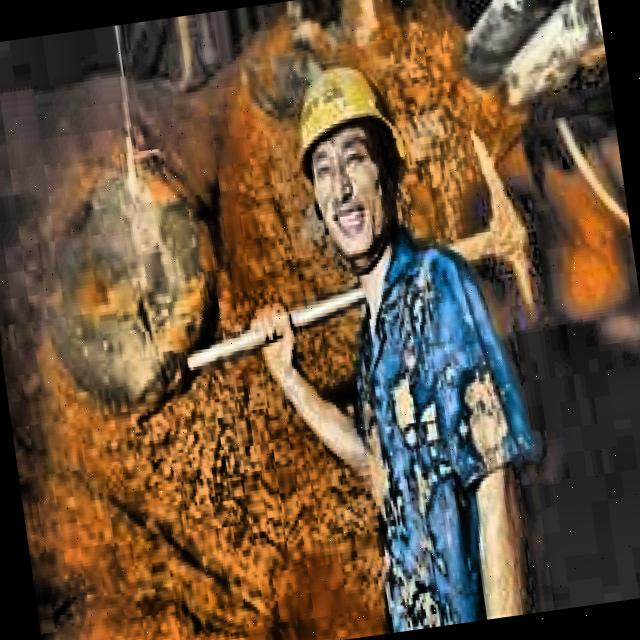helmet: (276, 42, 418, 270)
